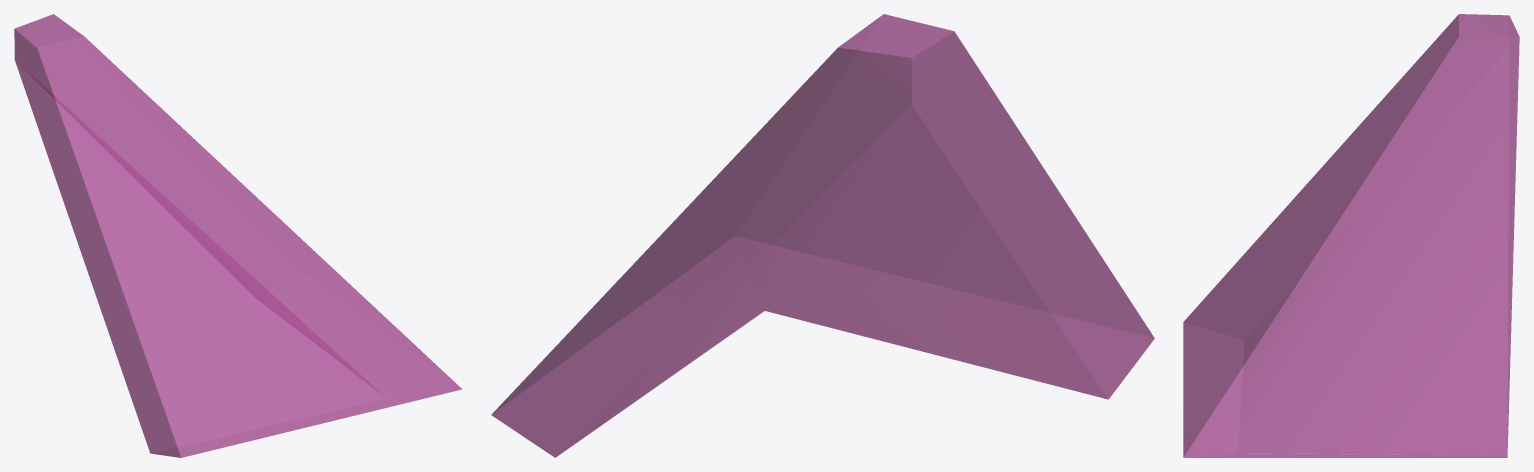
The model's file is SM_Bld_Roof_01_Corner_01_Collision.fbx.
3 views of the same model, side by side, from view 1: azimuth 30°, elevation 25°; view 2: azimuth 150°, elevation 25°; view 3: azimuth 270°, elevation 25° (orthographic). The views are drawn at different scales.
Visible parts, largest first — view 1: SM_Bld_Roof_01_Corner_01_Collision; view 2: SM_Bld_Roof_01_Corner_01_Collision; view 3: SM_Bld_Roof_01_Corner_01_Collision.
Boxes of the visible parts, <box> form: SM_Bld_Roof_01_Corner_01_Collision: <box>14,14,461,457</box>; SM_Bld_Roof_01_Corner_01_Collision: <box>491,14,1154,457</box>; SM_Bld_Roof_01_Corner_01_Collision: <box>1183,14,1519,457</box>.
Size of the model in its own units: 289 by 316 by 297.
